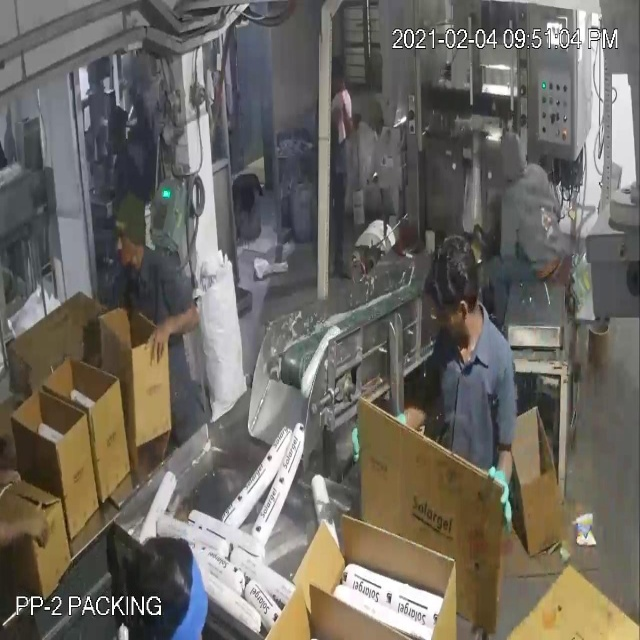Sin_guantes: (134, 294, 207, 366), (1, 499, 62, 559)
